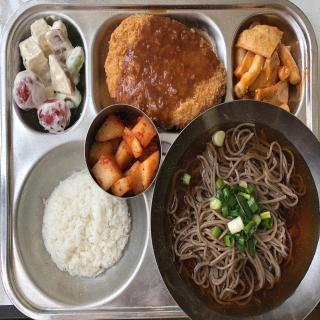Nasi: (42, 168, 132, 278)
